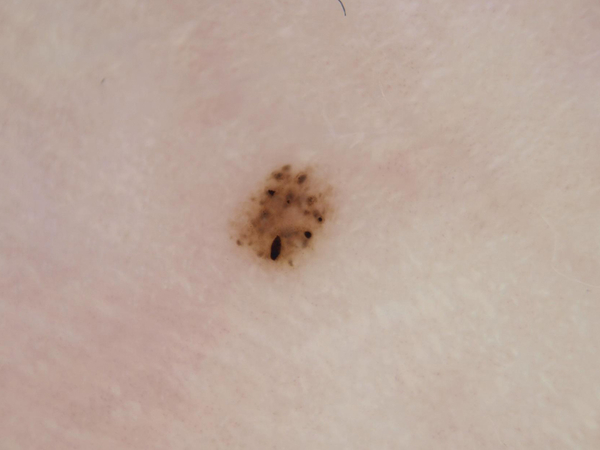Detected Lesion: (229, 162, 337, 273)
